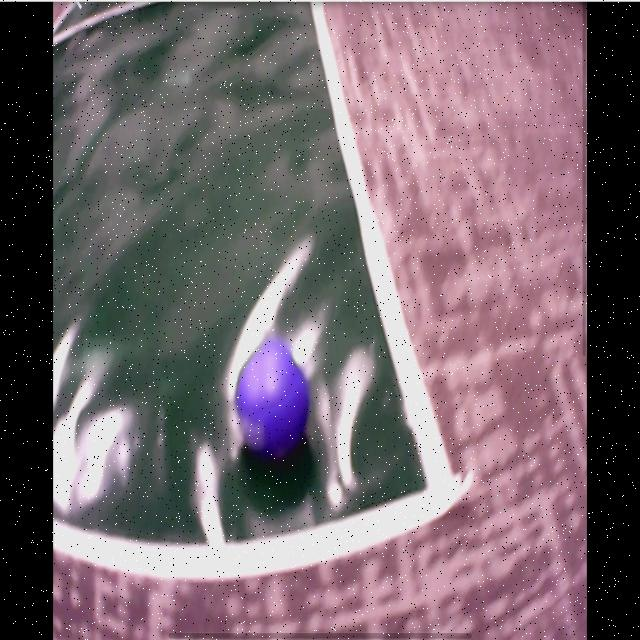ball: (236, 341, 312, 456)
